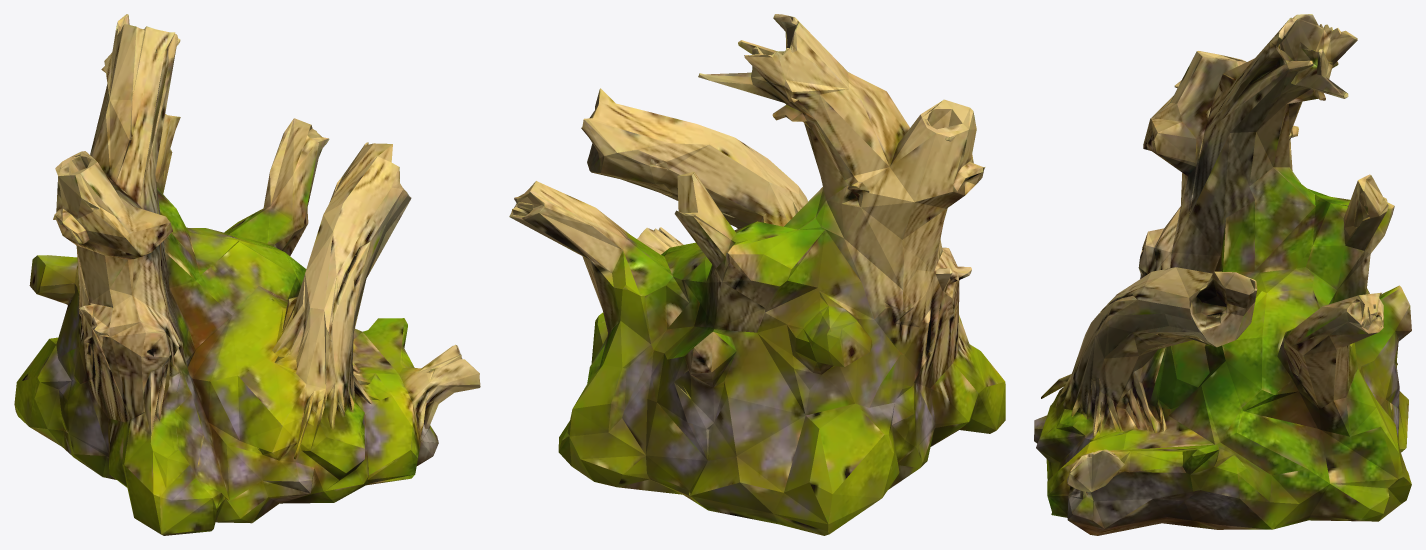
The model's file is swamp_driftwood_01.glb.
3 views of the same model, side by side, from view 1: azimuth 30°, elevation 25°; view 2: azimuth 150°, elevation 25°; view 3: azimuth 270°, elevation 25° (orthographic). The views are drawn at different scales.
Visible parts, largest first — view 1: geometry_0; view 2: geometry_0; view 3: geometry_0.
Part boxes in pixels (x1,y1,x2,y2): geometry_0: (14, 14, 480, 535); geometry_0: (509, 14, 1005, 535); geometry_0: (1034, 14, 1411, 535).
Size of the model in its own units: 0.8913 by 0.9982 by 0.7872.
Materials: 1 (1 with a texture image).
